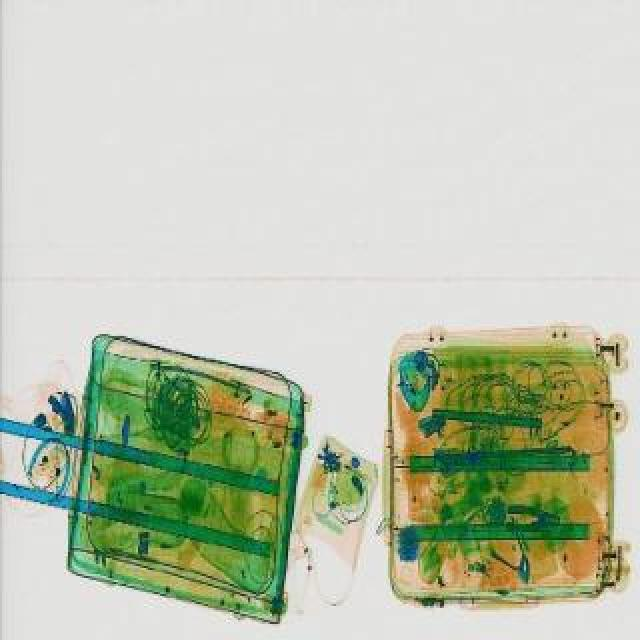wrench: (506, 504, 558, 528)
